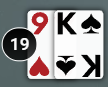9: (29, 10, 51, 37)
k: (54, 10, 79, 37)
